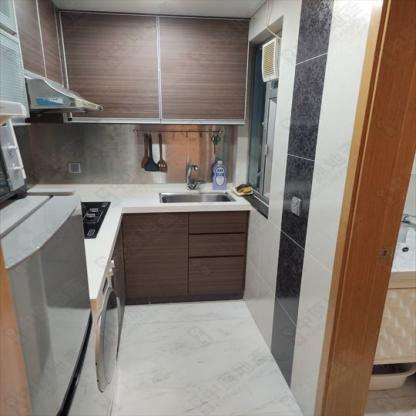Cupboard: (64, 9, 251, 122), (124, 212, 252, 304)
Exhaust Hood: (26, 80, 102, 113)
Faucet: (182, 162, 205, 191)
Fridge: (0, 192, 101, 415)
Sink: (159, 192, 233, 203)
